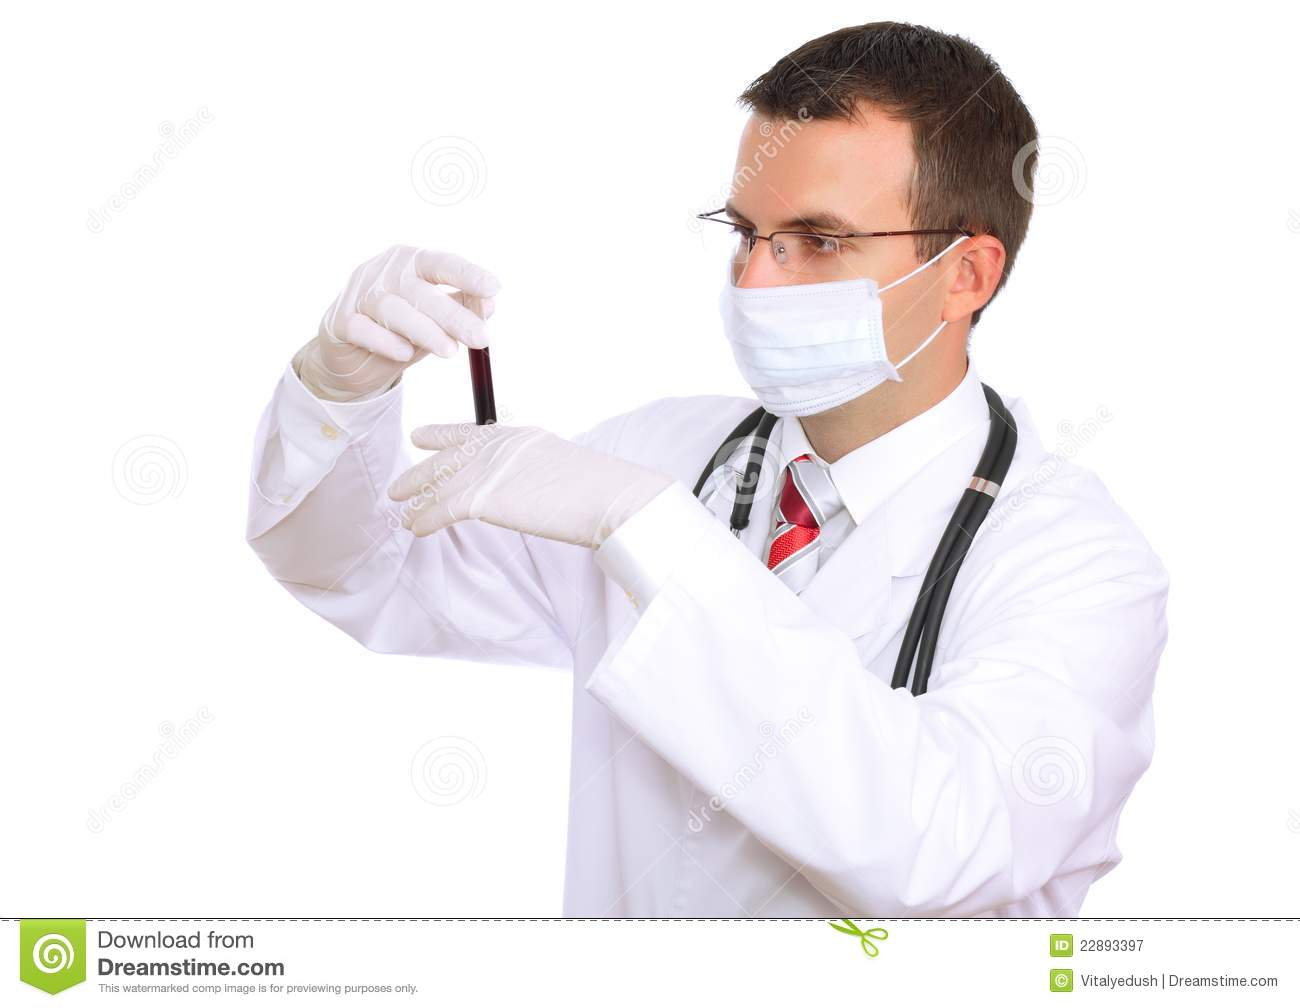mask: (701, 275, 918, 435)
